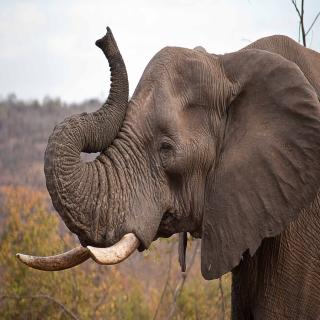Elephant: (16, 24, 320, 320)
